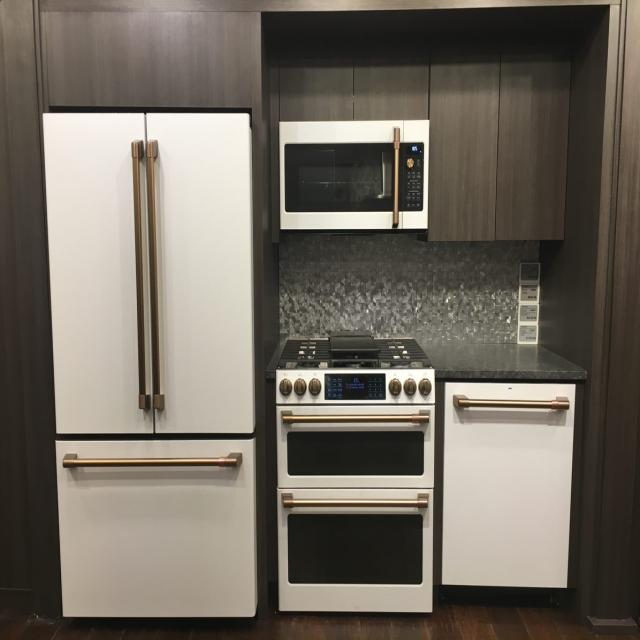dishwasher: (443, 377, 572, 593)
